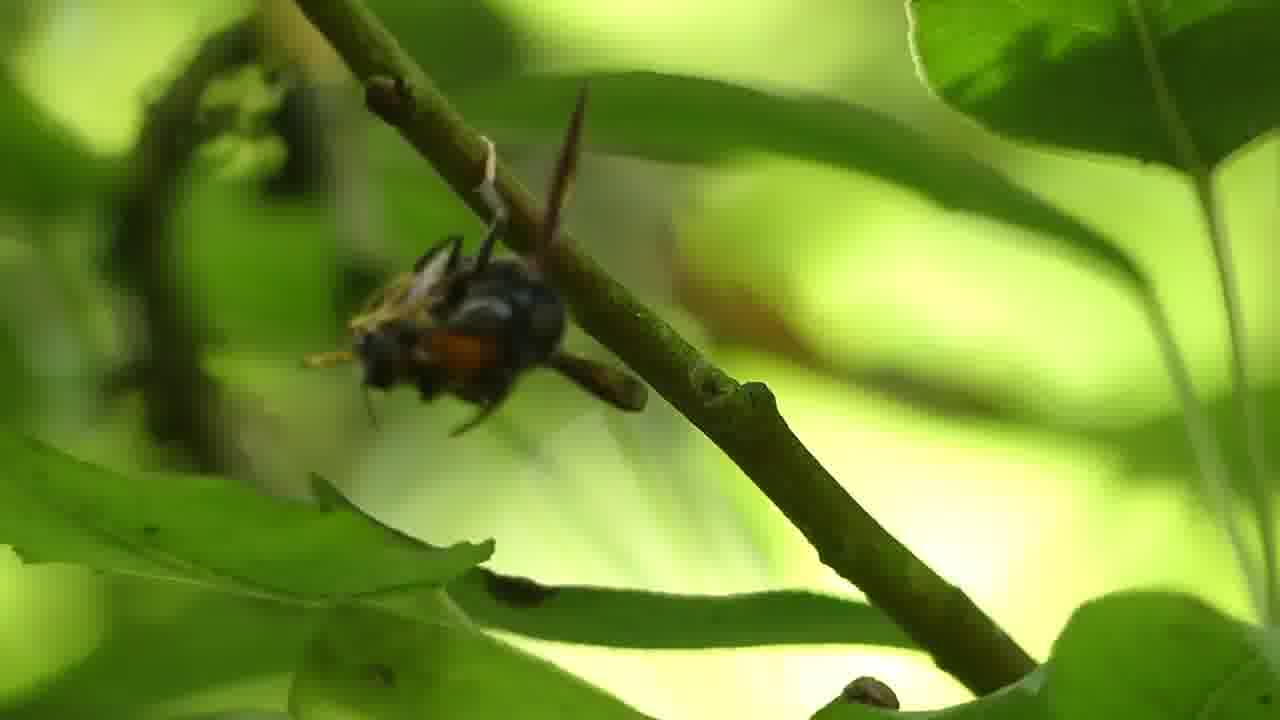hornet: (325, 187, 676, 429)
